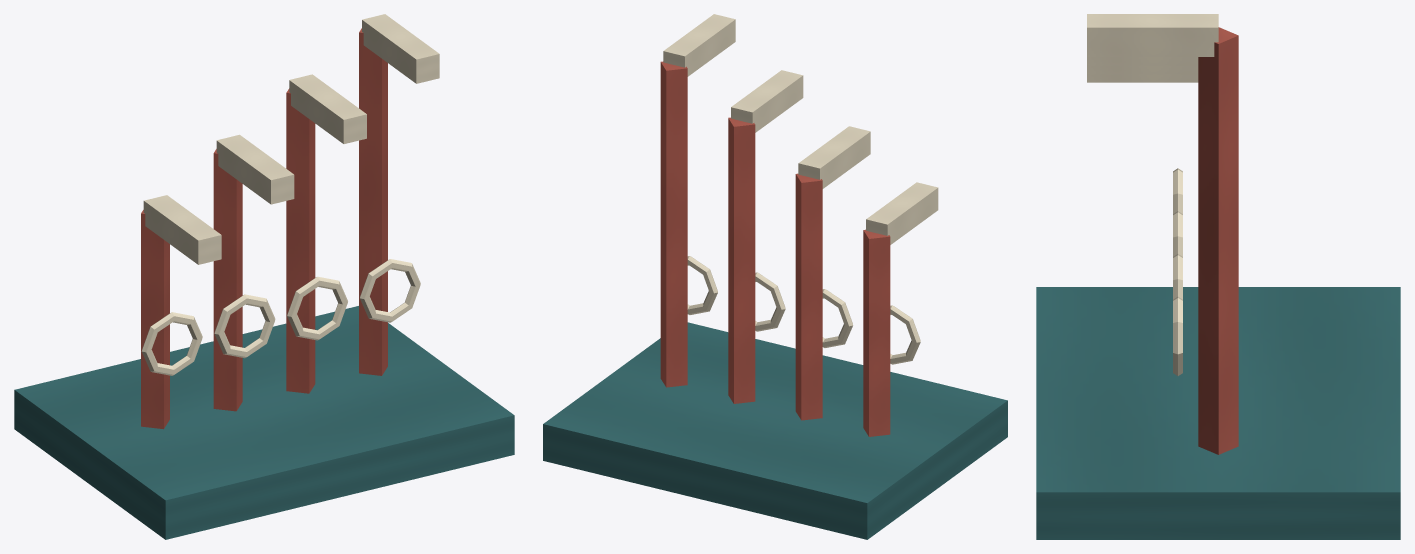
File: atlas100-s034-a03.lod2.glb
The picture shows the model from 3 angles, left to right: view 1: azimuth 30°, elevation 25°; view 2: azimuth 150°, elevation 25°; view 3: azimuth 270°, elevation 25°; orthographic projection. The views are drawn at different scales.
Parts seen in each view (by area): view 1: atlas100-s034-a03:part-000, atlas100-s034-a03:part-012, atlas100-s034-a03:part-009, atlas100-s034-a03:part-006, atlas100-s034-a03:part-003, atlas100-s034-a03:part-005, atlas100-s034-a03:part-008, atlas100-s034-a03:part-014, atlas100-s034-a03:part-011, atlas100-s034-a03:part-010, atlas100-s034-a03:part-007, atlas100-s034-a03:part-004 (+1 smaller); view 2: atlas100-s034-a03:part-000, atlas100-s034-a03:part-012, atlas100-s034-a03:part-009, atlas100-s034-a03:part-006, atlas100-s034-a03:part-003, atlas100-s034-a03:part-005, atlas100-s034-a03:part-011, atlas100-s034-a03:part-014, atlas100-s034-a03:part-008, atlas100-s034-a03:part-007, atlas100-s034-a03:part-013, atlas100-s034-a03:part-004 (+1 smaller); view 3: atlas100-s034-a03:part-000, atlas100-s034-a03:part-012, atlas100-s034-a03:part-014, atlas100-s034-a03:part-008, atlas100-s034-a03:part-005, atlas100-s034-a03:part-011, atlas100-s034-a03:part-013, atlas100-s034-a03:part-004.
Boxes of the visible parts, x1=… form: atlas100-s034-a03:part-000: x1=14, y1=306, x2=514, y2=539; atlas100-s034-a03:part-012: x1=359, y1=28, x2=387, y2=375; atlas100-s034-a03:part-009: x1=286, y1=88, x2=315, y2=393; atlas100-s034-a03:part-006: x1=213, y1=149, x2=242, y2=411; atlas100-s034-a03:part-003: x1=141, y1=210, x2=169, y2=429; atlas100-s034-a03:part-005: x1=143, y1=195, x2=221, y2=264; atlas100-s034-a03:part-008: x1=216, y1=134, x2=294, y2=204; atlas100-s034-a03:part-014: x1=362, y1=14, x2=439, y2=83; atlas100-s034-a03:part-011: x1=289, y1=74, x2=366, y2=143; atlas100-s034-a03:part-010: x1=287, y1=276, x2=347, y2=340; atlas100-s034-a03:part-007: x1=214, y1=294, x2=275, y2=358; atlas100-s034-a03:part-004: x1=141, y1=312, x2=202, y2=375; atlas100-s034-a03:part-000: x1=543, y1=322, x2=1007, y2=539; atlas100-s034-a03:part-012: x1=660, y1=61, x2=687, y2=387; atlas100-s034-a03:part-009: x1=728, y1=117, x2=755, y2=403; atlas100-s034-a03:part-006: x1=795, y1=173, x2=822, y2=420; atlas100-s034-a03:part-003: x1=863, y1=229, x2=890, y2=436; atlas100-s034-a03:part-005: x1=866, y1=182, x2=938, y2=244; atlas100-s034-a03:part-011: x1=731, y1=70, x2=803, y2=132; atlas100-s034-a03:part-014: x1=663, y1=14, x2=735, y2=76; atlas100-s034-a03:part-008: x1=798, y1=126, x2=870, y2=188; atlas100-s034-a03:part-007: x1=822, y1=289, x2=853, y2=347; atlas100-s034-a03:part-013: x1=687, y1=256, x2=717, y2=314; atlas100-s034-a03:part-004: x1=890, y1=305, x2=920, y2=364; atlas100-s034-a03:part-000: x1=1036, y1=287, x2=1400, y2=539; atlas100-s034-a03:part-012: x1=1198, y1=27, x2=1238, y2=454; atlas100-s034-a03:part-014: x1=1087, y1=14, x2=1218, y2=56; atlas100-s034-a03:part-008: x1=1087, y1=65, x2=1198, y2=74; atlas100-s034-a03:part-005: x1=1087, y1=74, x2=1198, y2=82; atlas100-s034-a03:part-011: x1=1087, y1=57, x2=1198, y2=65; atlas100-s034-a03:part-013: x1=1173, y1=296, x2=1182, y2=375; atlas100-s034-a03:part-004: x1=1173, y1=168, x2=1182, y2=213.
Size of the model in its own units: 2.4 by 2.62 by 1.8.
Materials: 3 (3 with a texture image).
